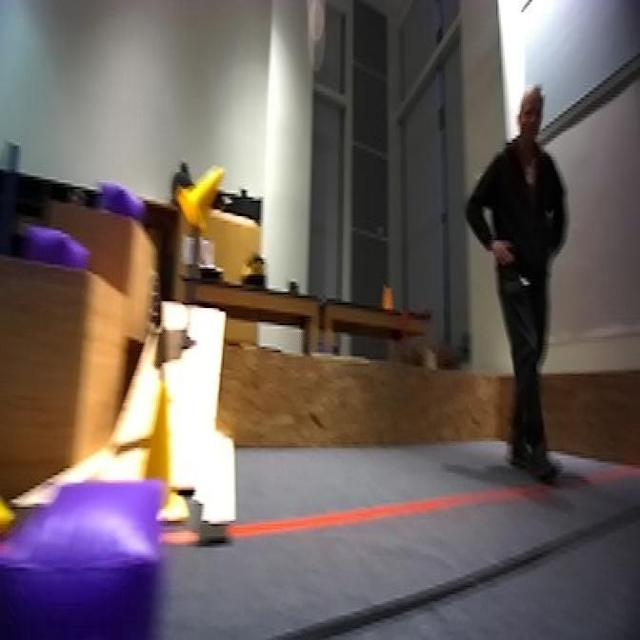frc_cone: (124, 376, 210, 546), (180, 157, 233, 233)
frc_cube: (0, 437, 181, 640), (19, 214, 100, 276), (96, 175, 134, 216)
